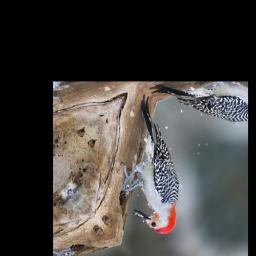Woodpecker: (84, 95, 222, 242)
